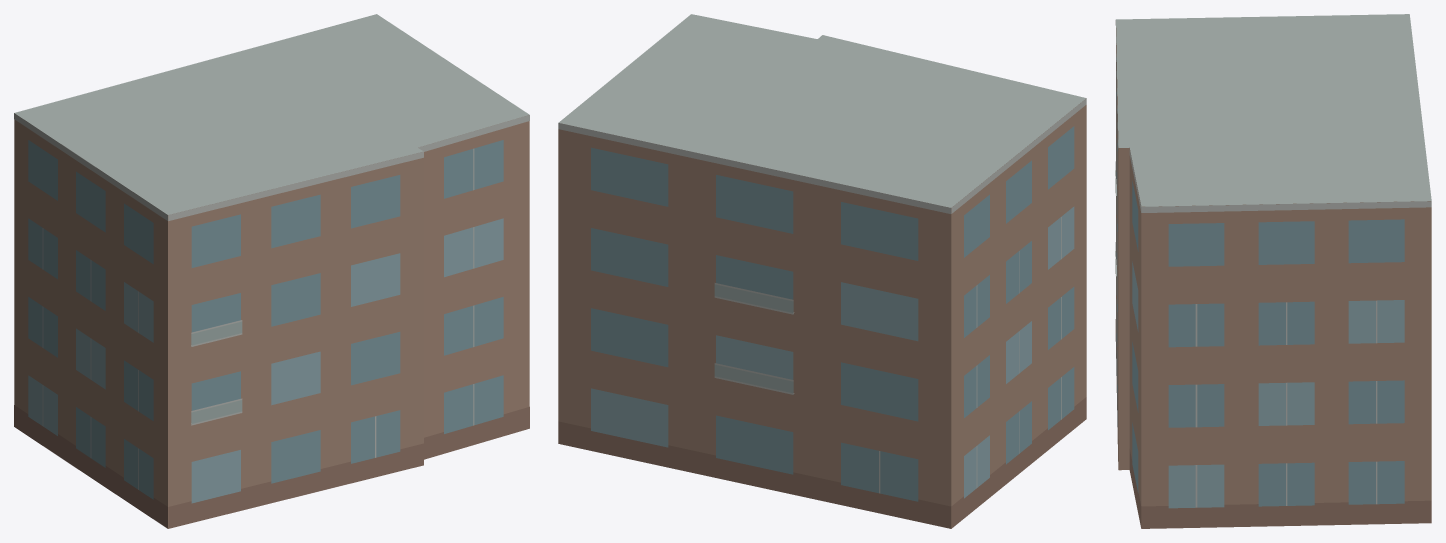
File: survey-upis-32746554.glb
3 views of the same model, side by side, from view 1: azimuth 30°, elevation 25°; view 2: azimuth 150°, elevation 25°; view 3: azimuth 270°, elevation 25° (orthographic). The views are drawn at different scales.
Visible parts, largest first — view 1: survey-upis-32746554.tmp; view 2: survey-upis-32746554.tmp; view 3: survey-upis-32746554.tmp.
Boxes of the visible parts, x1,y1,x2,y2 form: survey-upis-32746554.tmp: [14, 14, 529, 528]; survey-upis-32746554.tmp: [558, 14, 1086, 528]; survey-upis-32746554.tmp: [1115, 14, 1431, 528].
Size of the model in its own units: 15.93 by 12.4 by 11.06.
